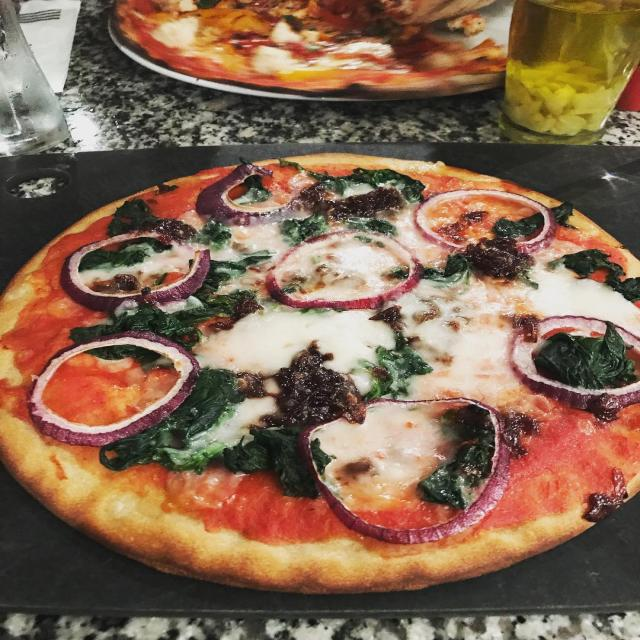pizza: (0, 151, 640, 594), (108, 0, 510, 97)
